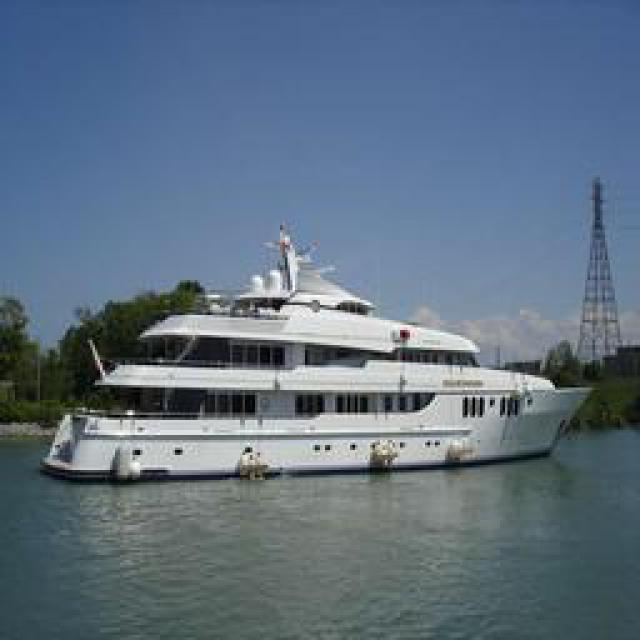Ship: (47, 221, 600, 484)
